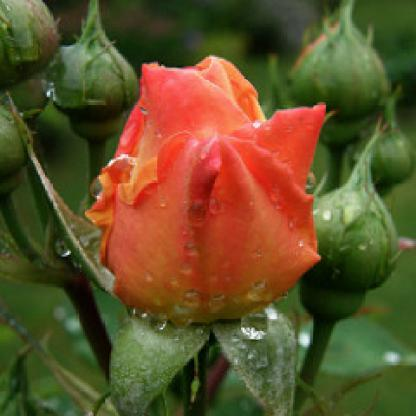ROSE-MAWAR: (77, 48, 339, 330)
